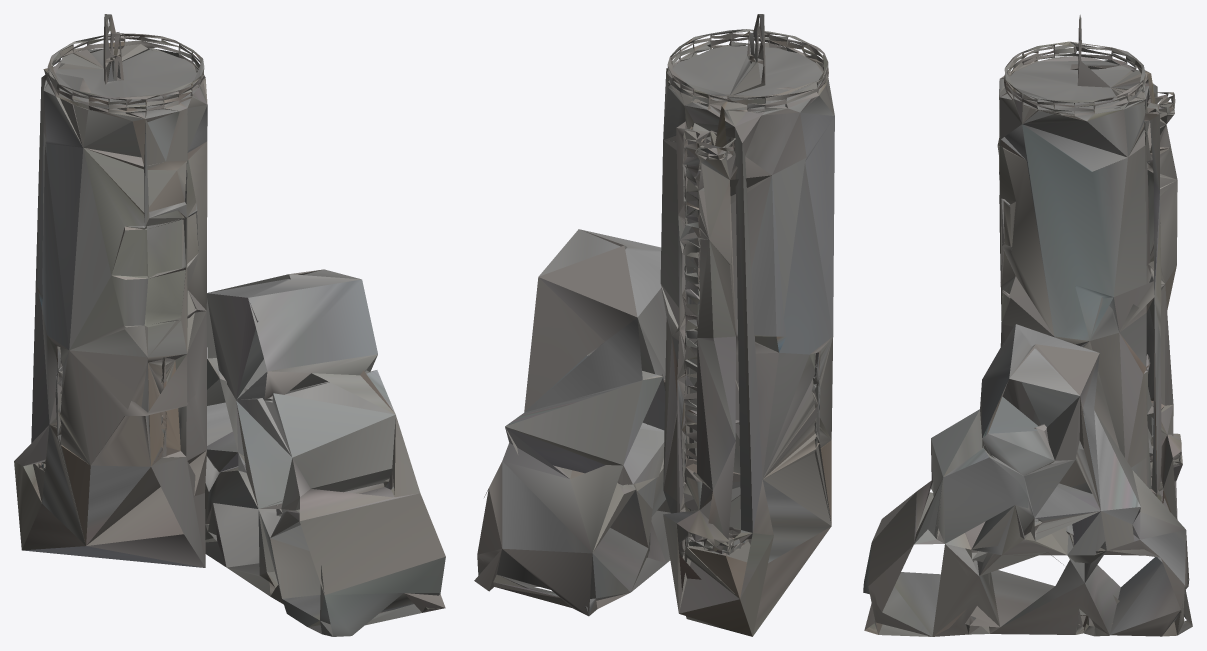
The model's file is k12_far.glb.
3 views of the same model, side by side, from view 1: azimuth 30°, elevation 25°; view 2: azimuth 150°, elevation 25°; view 3: azimuth 270°, elevation 25° (orthographic). The views are drawn at different scales.
Parts seen in each view (by area): view 1: k12_far; view 2: k12_far; view 3: k12_far.
Boxes of the visible parts, x1=… form: k12_far: x1=14, y1=14, x2=445, y2=636; k12_far: x1=474, y1=14, x2=834, y2=636; k12_far: x1=863, y1=14, x2=1192, y2=636.
Size of the model in its own units: 9.14 by 18 by 10.19.
1 material, 1 textured.
